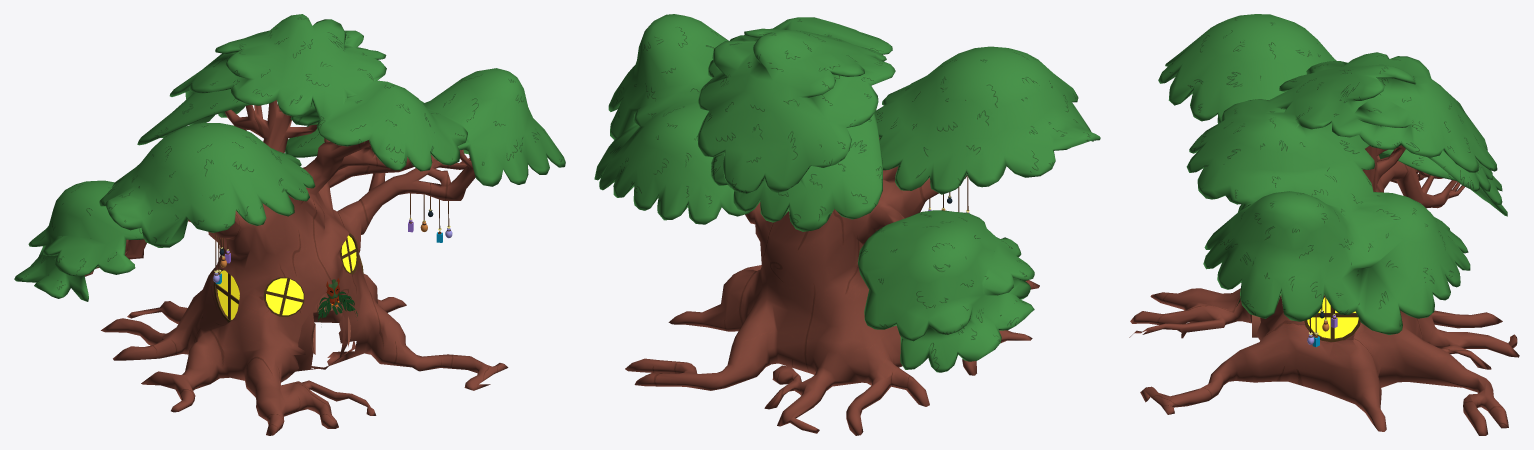
File: shell.glb
3 views of the same model, side by side, from view 1: azimuth 30°, elevation 25°; view 2: azimuth 150°, elevation 25°; view 3: azimuth 270°, elevation 25° (orthographic).
Visible parts, largest first — view 1: ZecoraHut_shell; view 2: ZecoraHut_shell; view 3: ZecoraHut_shell.
Boxes of the visible parts, bbox=[...] form: ZecoraHut_shell: bbox=[14, 14, 565, 435]; ZecoraHut_shell: bbox=[594, 14, 1100, 435]; ZecoraHut_shell: bbox=[1129, 14, 1519, 435].
Bounding box in the file's own units: 23.95 × 15.99 × 17.46.
Materials: 25 (25 with a texture image).
